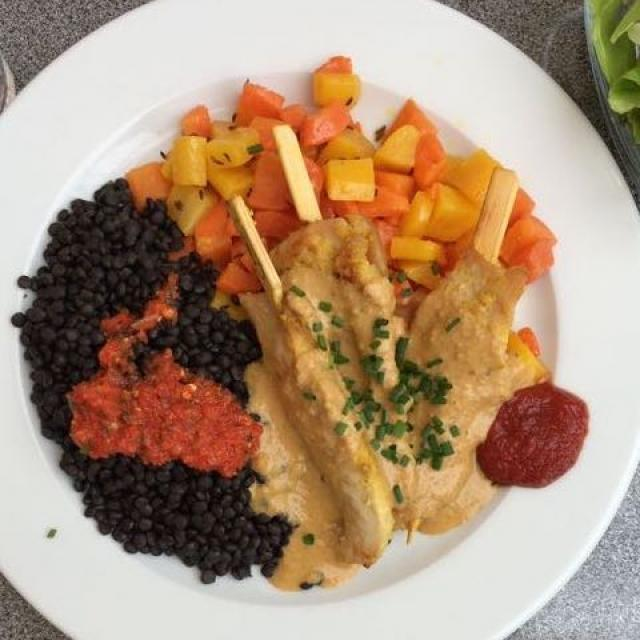beans: (9, 176, 301, 586)
carrot: (133, 67, 571, 282)
chicken: (230, 240, 533, 571)
tomato-sauce: (62, 278, 259, 474)
